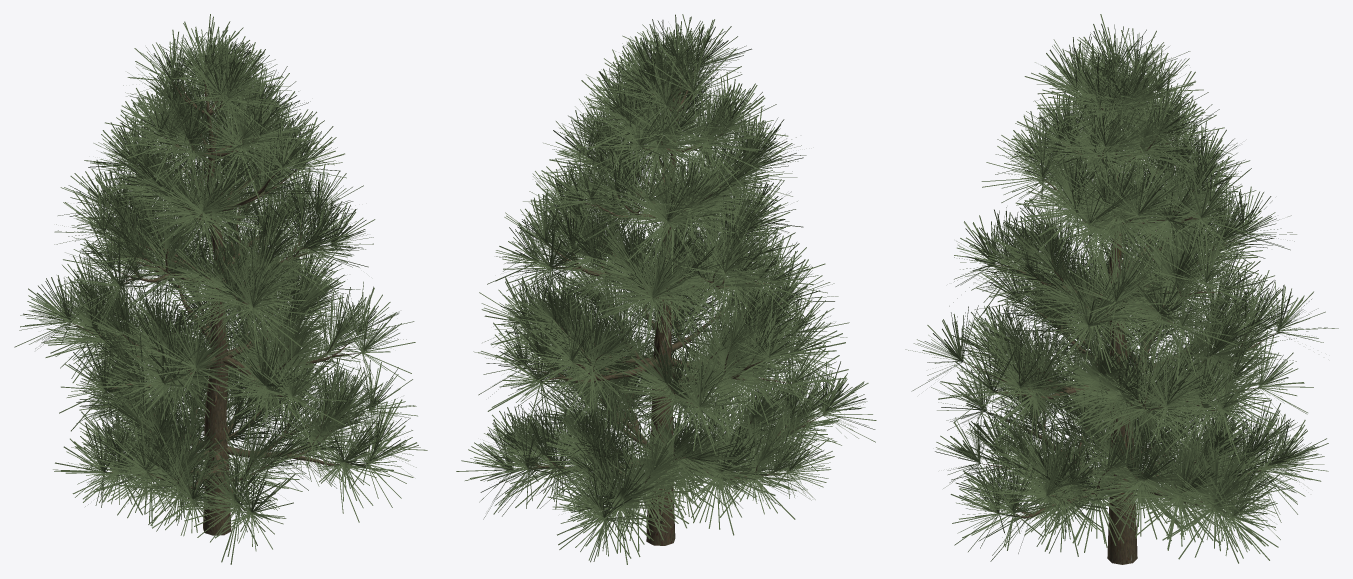
The model's file is pine2.fbx.
3 renders of one model, left to right at view 1: azimuth 30°, elevation 25°; view 2: azimuth 150°, elevation 25°; view 3: azimuth 270°, elevation 25°, orthographic. The views are drawn at different scales.
Parts seen in each view (by area): view 1: leaves, tree; view 2: leaves, tree; view 3: leaves, tree.
Boxes of the visible parts, <box> form: leaves: <box>14,14,427,564</box>; tree: <box>72,68,374,535</box>; leaves: <box>456,14,876,564</box>; tree: <box>512,68,824,545</box>; leaves: <box>905,14,1338,563</box>; tree: <box>963,99,1276,564</box>.
Size of the model in its own units: 586 by 862 by 641.
2 materials, 1 textured.
